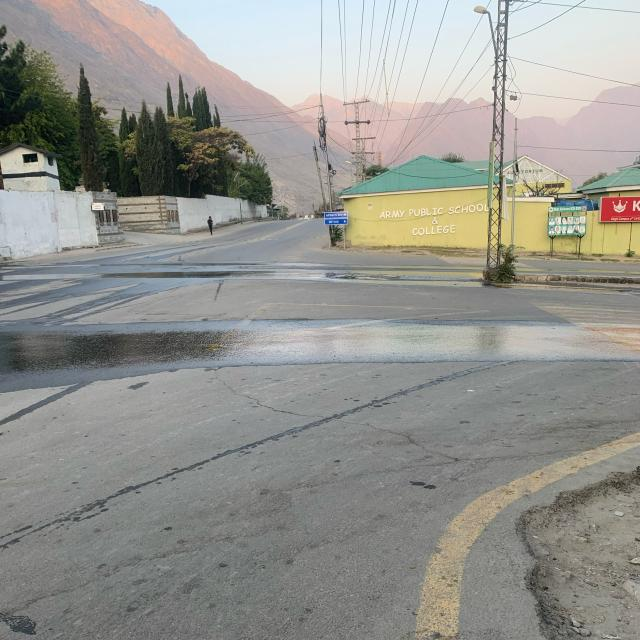Right-Turn: (164, 243, 486, 603)
straight: (94, 209, 327, 468)
